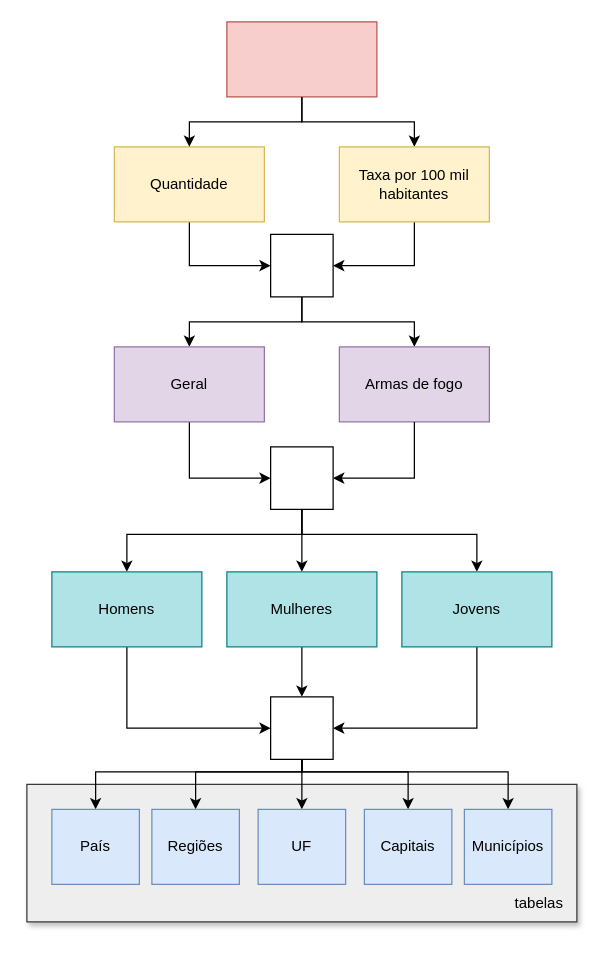
Some shapes in this 606 by 953 pixel diagram are drawn without their labels. Here are the shapes that lost their labels. From the top down, the centre of each, then its label:
At point (301, 59): "Casos de suicídio no Brasil".
At point (301, 265): "Causas".
At point (301, 477): "Demografia".
At point (301, 727): "Geografia".
